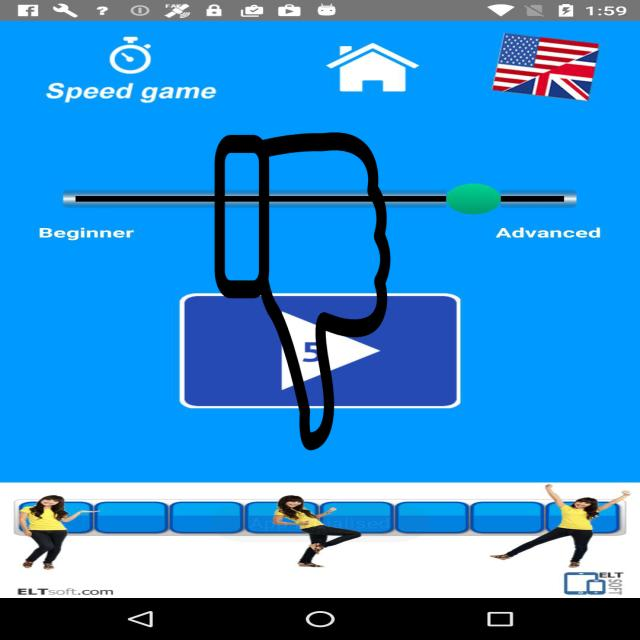obstruction: (212, 132, 393, 450)
